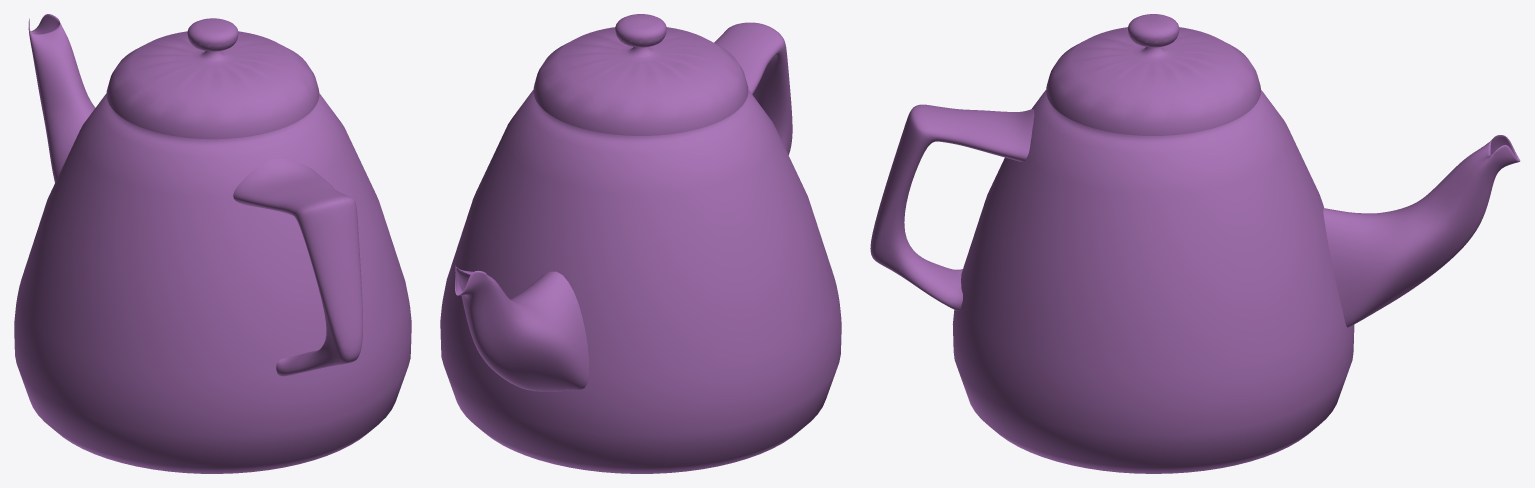
The model's file is Teapot.fbx.
3 views of the same model, side by side, from view 1: azimuth 30°, elevation 25°; view 2: azimuth 150°, elevation 25°; view 3: azimuth 270°, elevation 25° (orthographic).
Parts seen in each view (by area): view 1: tea; view 2: tea; view 3: tea.
Boxes of the visible parts, box(x1,y1,x2,y2) form: tea: box(14, 14, 411, 473); tea: box(440, 14, 841, 473); tea: box(870, 14, 1520, 473).
Bounding box in the file's own units: 68.7 × 72.82 × 111.
